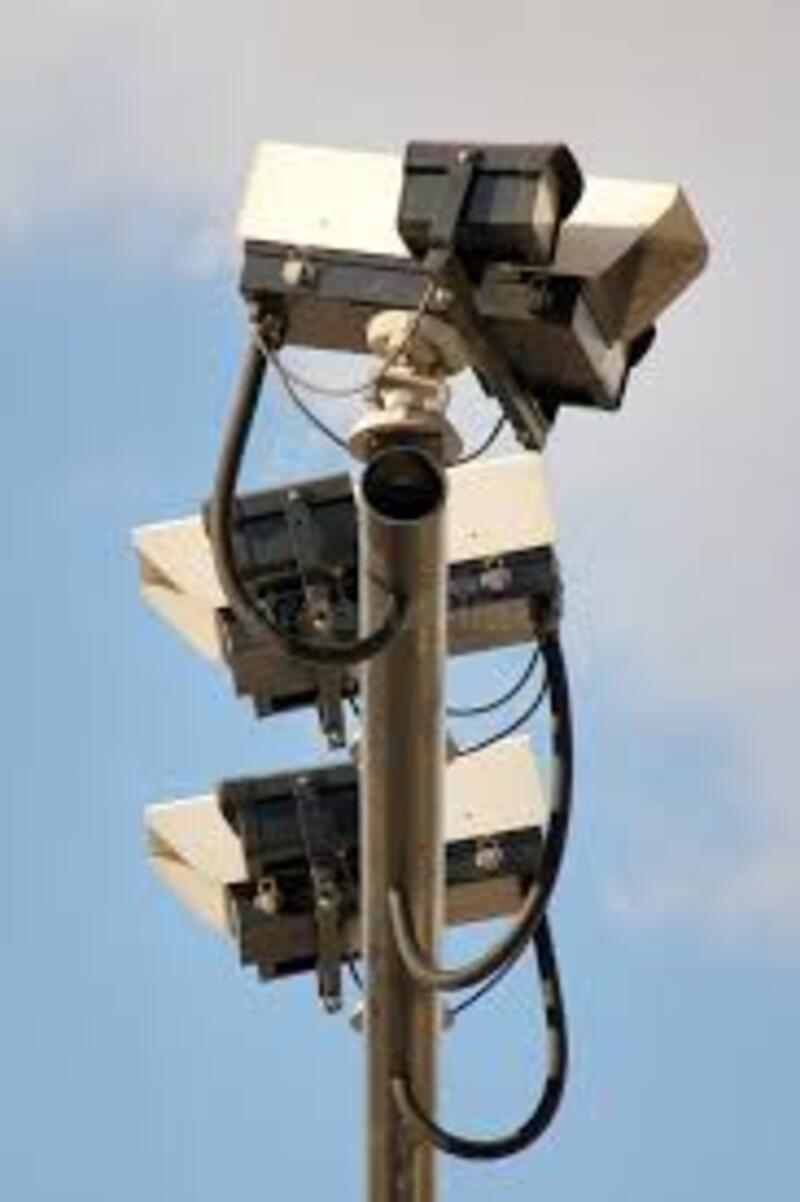box: (238, 126, 710, 420), (108, 481, 600, 677), (130, 773, 573, 957)
